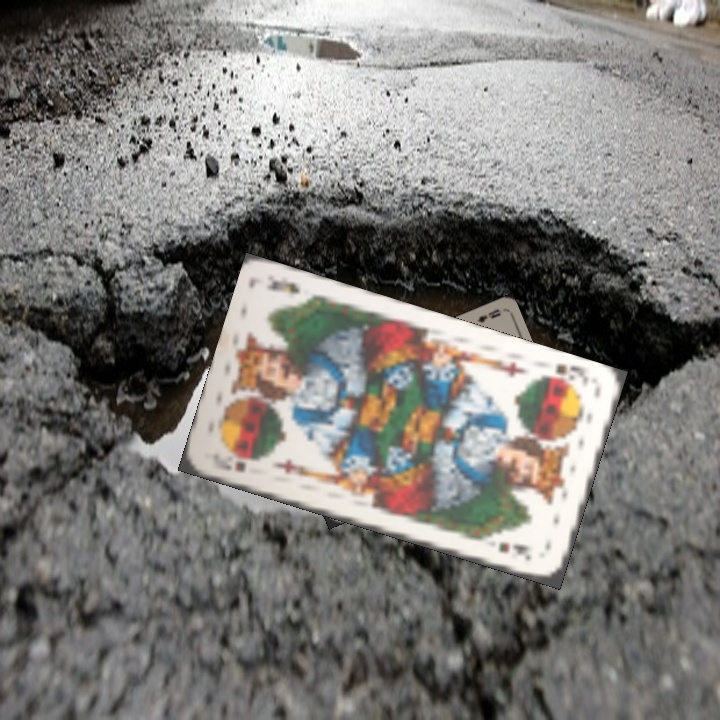E9: (474, 305, 503, 326)
SK: (538, 359, 592, 392), (208, 449, 248, 475)
